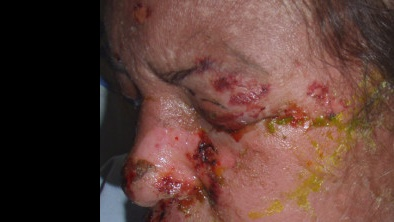SJS-TEN: (101, 0, 394, 222)
